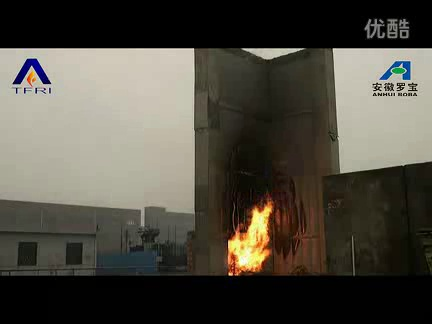fire: (224, 197, 276, 277)
